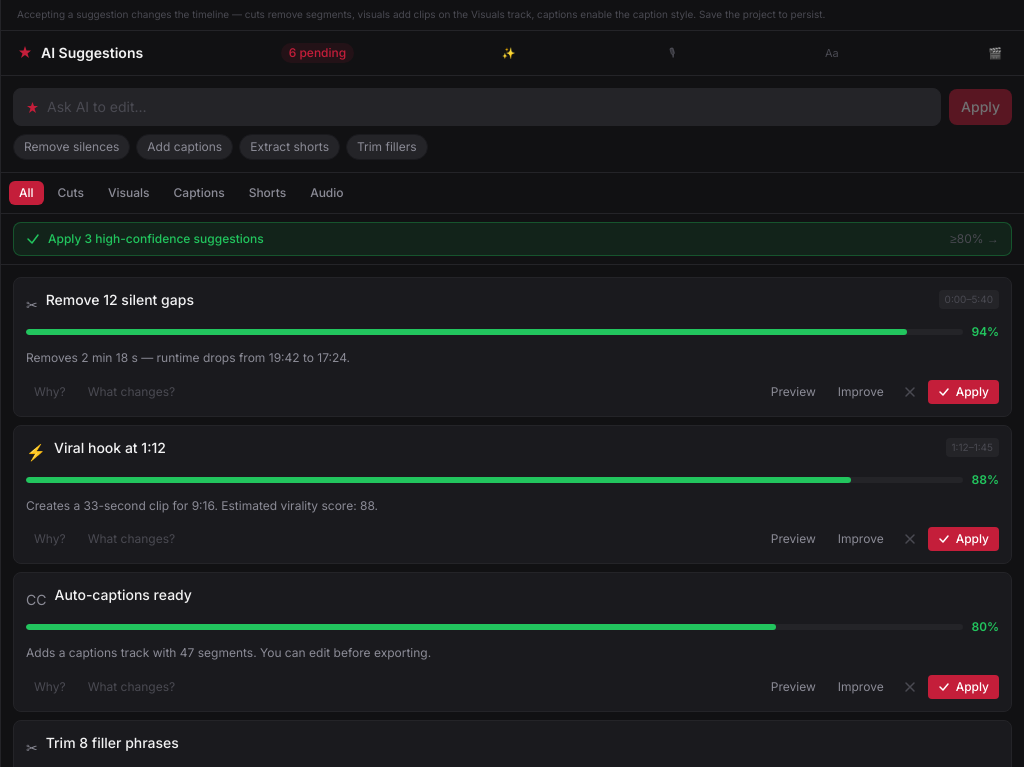
Test: AIPanel — expandable sections › clicking "Why?" again collapses the section
Click the button with test id "why-toggle-s1" at (50, 392), box [26,380,74,404]
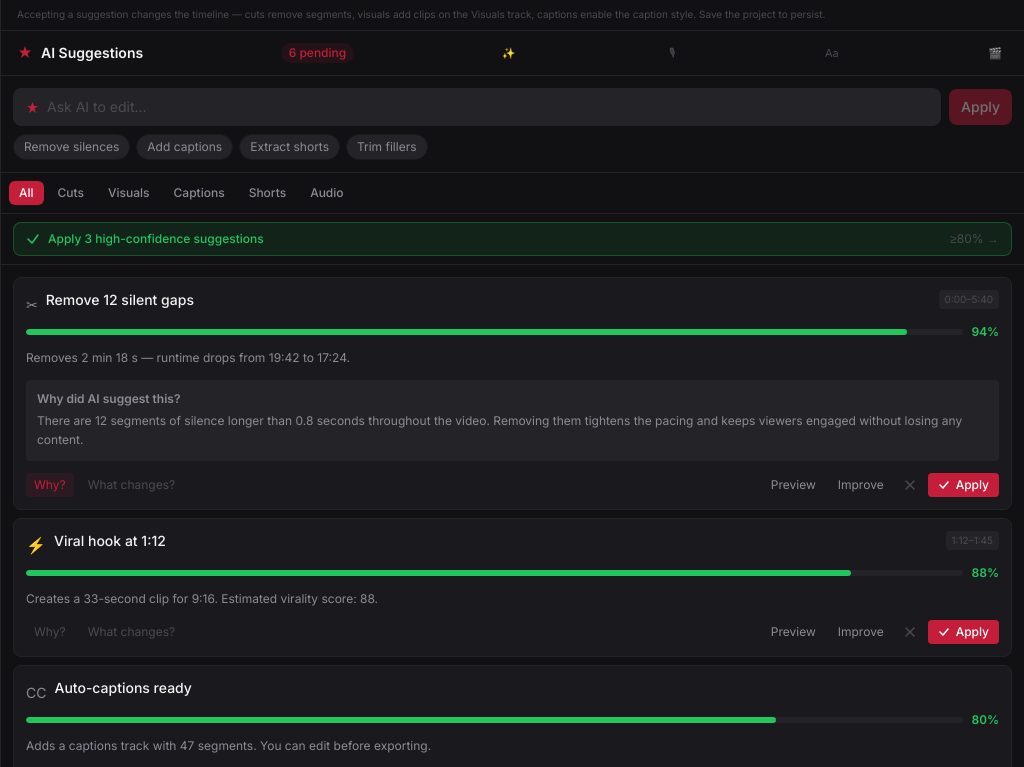
Click the button with test id "why-toggle-s1" at (50, 485), box [26,473,74,497]
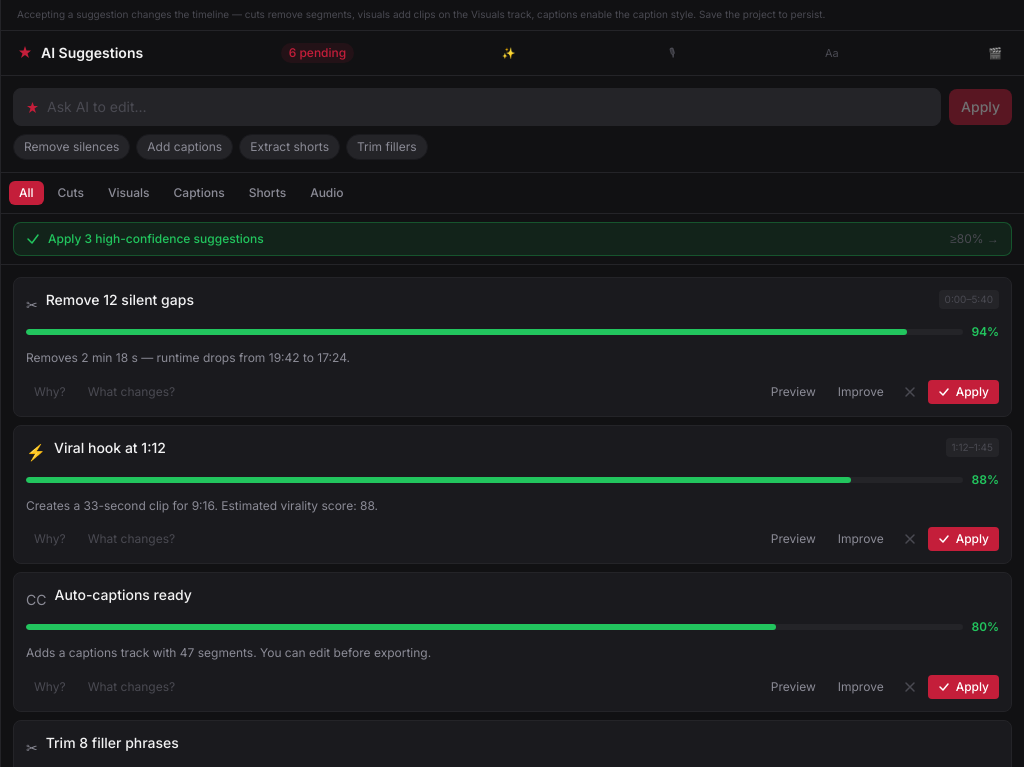
Now the element with test id "why-section-s1" is gone
